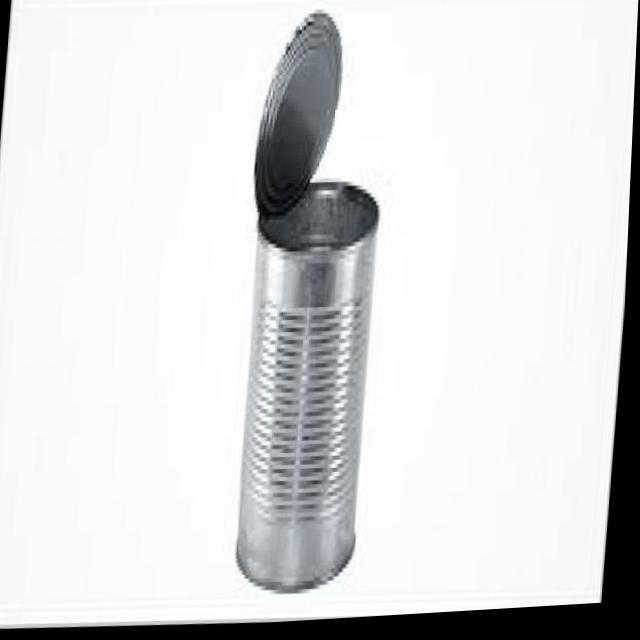metal: (237, 12, 378, 591)
